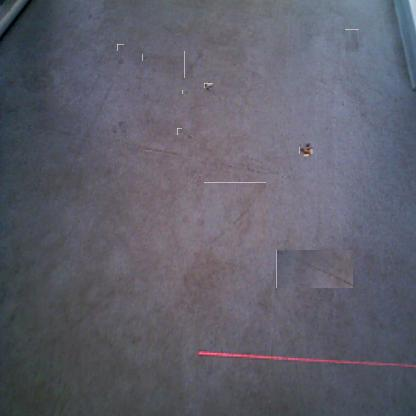dirty: (301, 145, 313, 156), (205, 82, 212, 89)
mark: (204, 182, 266, 247), (276, 250, 353, 288), (184, 50, 203, 78), (345, 29, 359, 52), (114, 123, 128, 137), (142, 53, 149, 61), (117, 44, 124, 51), (187, 135, 193, 143), (118, 56, 124, 64), (177, 128, 182, 135), (341, 102, 345, 110), (183, 90, 189, 95), (234, 62, 238, 68)
